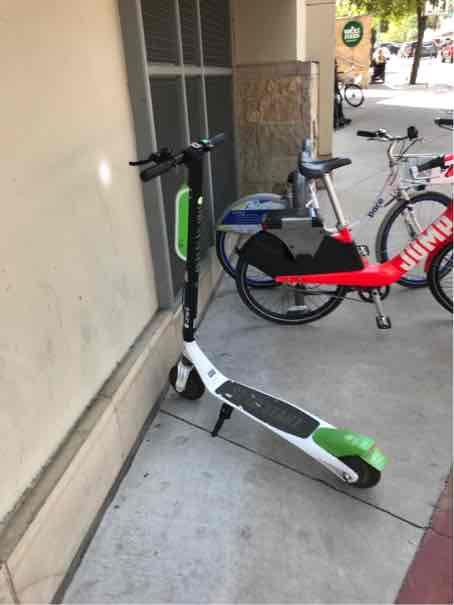scooter: (118, 126, 390, 504)
